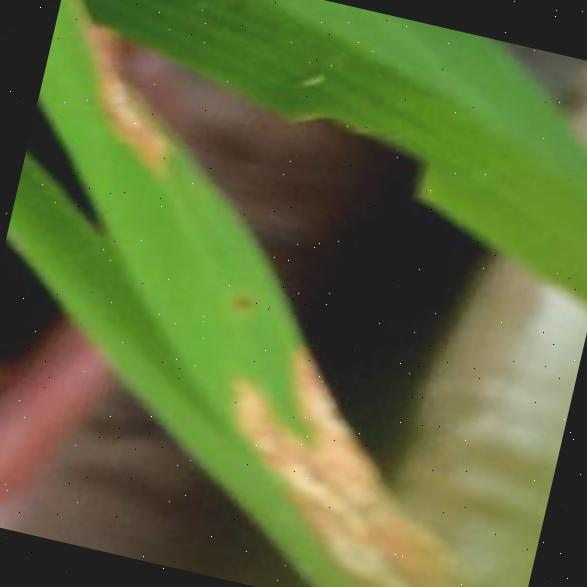Leaf_smut: (174, 278, 480, 587), (55, 17, 228, 189)
